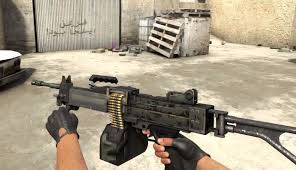gun: (30, 72, 295, 164)
